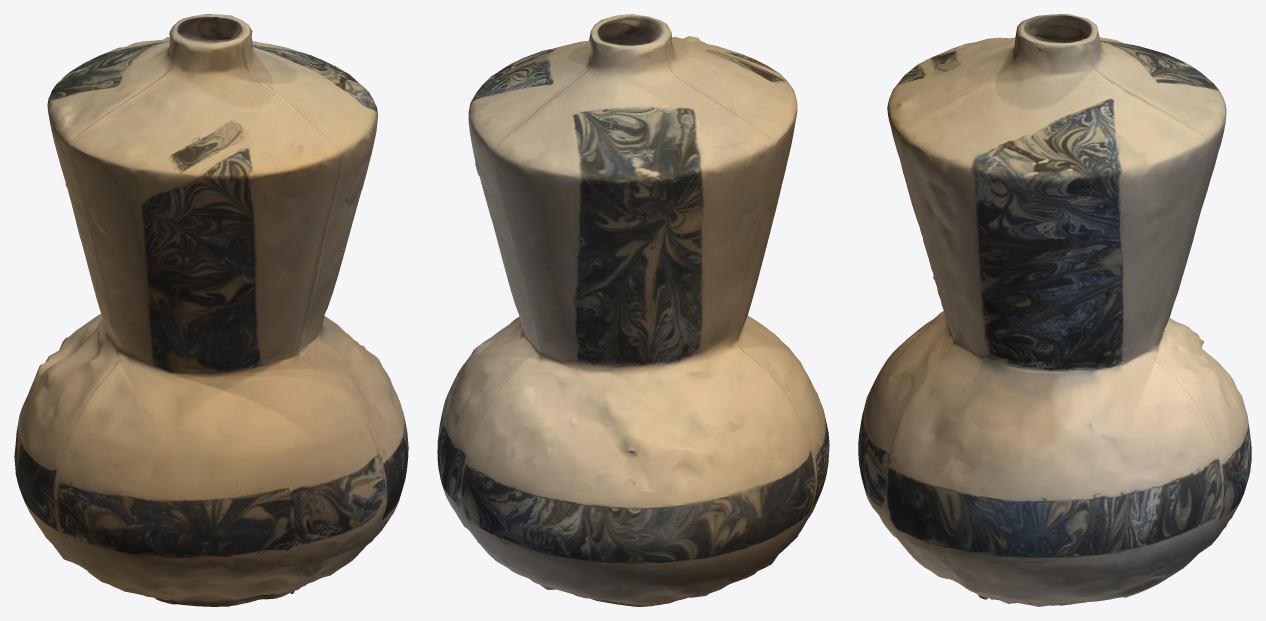
File: pot.glb
3 renders of one model, left to right at view 1: azimuth 30°, elevation 25°; view 2: azimuth 150°, elevation 25°; view 3: azimuth 270°, elevation 25°, orthographic.
Parts seen in each view (by area): view 1: Bisque Pot; view 2: Bisque Pot; view 3: Bisque Pot.
Part boxes in pixels (x1,y1,x2,y2): Bisque Pot: [14, 14, 408, 606]; Bisque Pot: [437, 14, 829, 606]; Bisque Pot: [858, 14, 1251, 606].
Size of the model in its own units: 2.69 by 4.11 by 2.67.
Materials: 1 (1 with a texture image).
